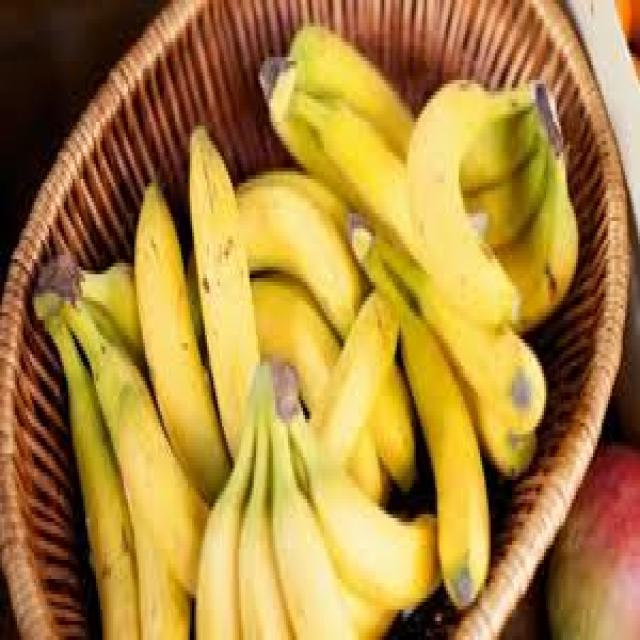banana: (348, 213, 547, 602), (201, 170, 414, 494), (32, 259, 209, 640), (199, 361, 430, 640), (257, 21, 449, 270), (408, 70, 574, 317)
